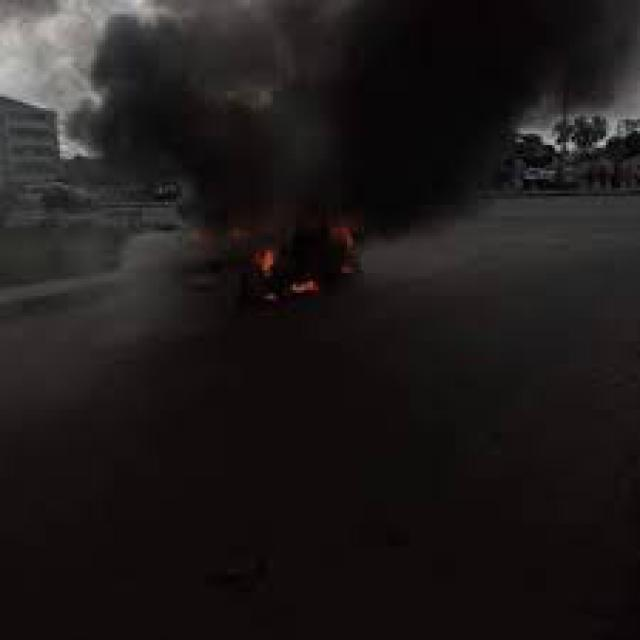Smoke: (82, 1, 550, 242)
